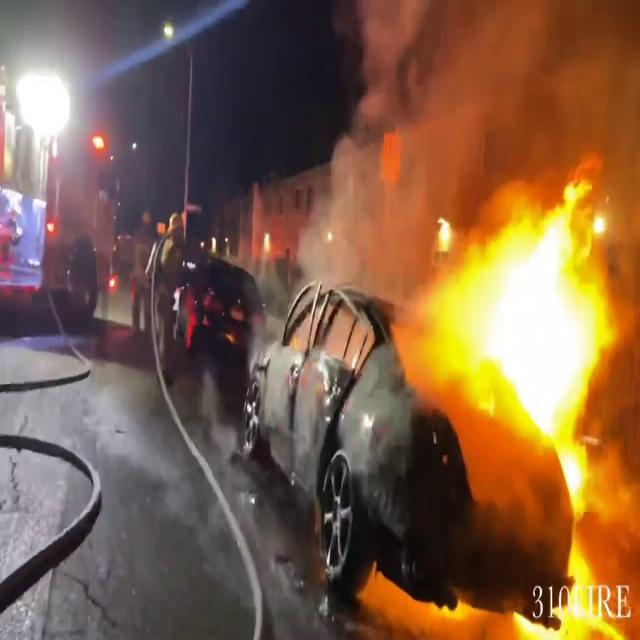Fire: (438, 165, 628, 478)
Smoke: (303, 0, 580, 286)
